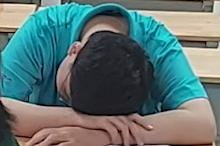Sleeping: (7, 8, 212, 144)
